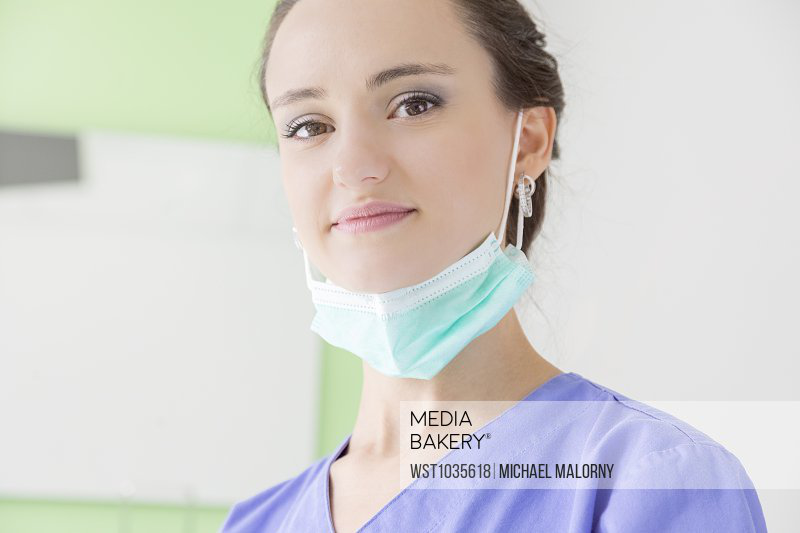mask_weared_incorrect: (273, 39, 562, 381)
